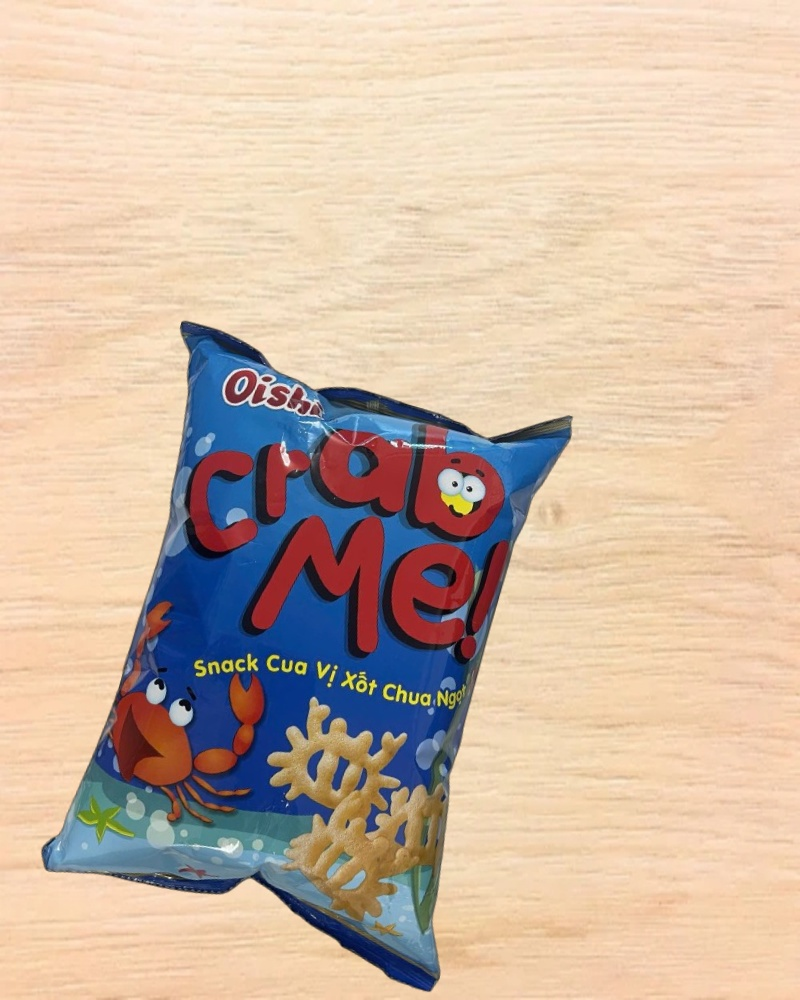Snack chay: (31, 314, 588, 996)
